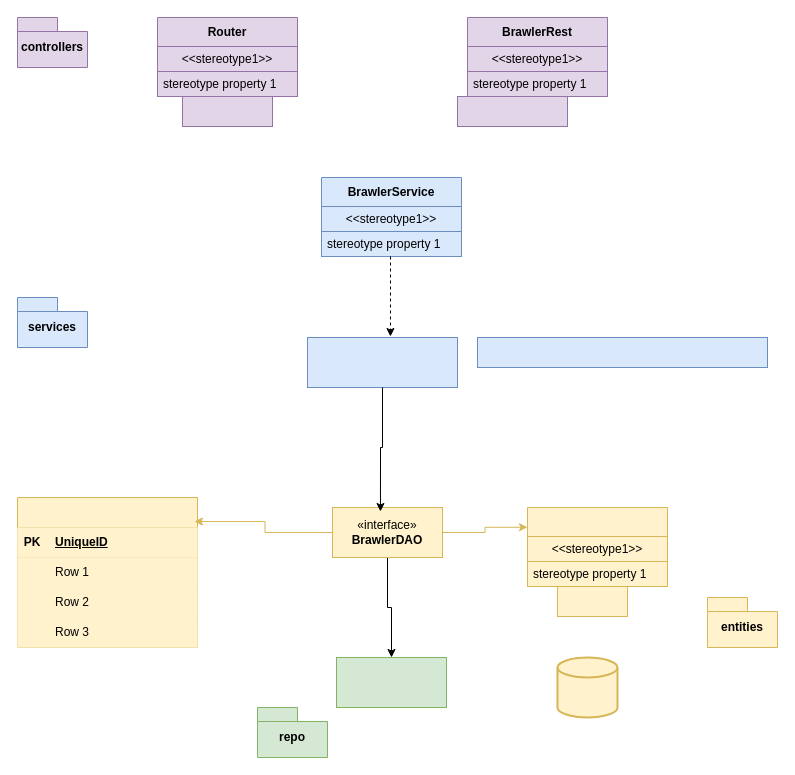
The diagram is 795 pixels wide and 775 high, and some of its shapes have lost their labels. Each missing label, with the box of its shape:
@Controller: (182, 96, 272, 126)
@Entity: (556, 586, 628, 616)
@RestController: (456, 96, 568, 126)
BRAWLER: (526, 506, 668, 586)
BRAWLERS: (16, 496, 198, 648)
dichiaro i metodi che voglio mettere a disposizione: (476, 336, 768, 368)
«interface» BrawlersService: (306, 336, 458, 388)
«interface» JpaRepository: (336, 656, 446, 708)
